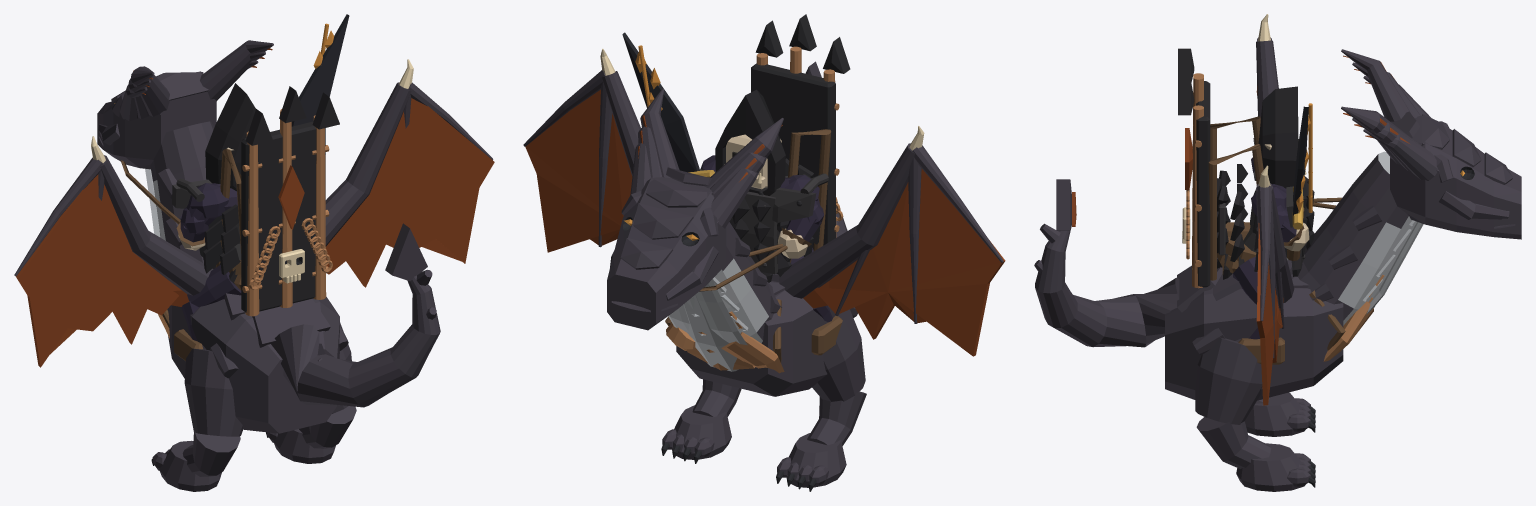
Rendered from host_50.glb.
3 views of the same model, side by side, from view 1: azimuth 30°, elevation 25°; view 2: azimuth 150°, elevation 25°; view 3: azimuth 270°, elevation 25° (orthographic).
Visible parts, largest first — view 1: V6 source mounted closed scalloped membrane R, V6 source mounted closed scalloped membrane L, V6 mount continuous anatomical thorax, V6 Bernhard long curled armored anatomical tail, V6 Bernhard actual strapped gothic throne timber back, V6 Bernhard source jaw shell, V6 source mounted wing shoulder elbow wrist bone L, V6 source mounted wing shoulder elbow wrist bone R, V6 mount anatomical thigh BL, V6 Bernhard continuous curved segmented neck, V6 source fitted domed cloth hood, V6 Bernhard source overlapped obsidian dorsal scale (+23 smaller); view 2: V6 source mounted closed scalloped membrane L, V6 source mounted closed scalloped membrane R, V6 Bernhard source jaw shell, V6 Bernhard actual strapped gothic throne timber back, V6 mount continuous anatomical thorax, V6 source mounted wing shoulder elbow wrist bone L, V6 Bernhard continuous curved segmented neck, V6 mount anatomical thigh BL, V6 source fitted domed cloth hood, V6 source curved forged sword blade, V6 mount anatomical shin BL, V6 Bernhard fitted continuous ivory throat (+28 smaller); view 3: V6 mount continuous anatomical thorax, V6 Bernhard continuous curved segmented neck, V6 Bernhard long curled armored anatomical tail, V6 Bernhard source jaw shell, V6 mount anatomical thigh BR, V6 source fitted domed cloth hood, V6 Bernhard actual strapped gothic throne timber back, V6 mount anatomical shin BR, V6 mount anatomical paw BR, V6 source mounted closed scalloped membrane R, V6 Bernhard actual contacting tower shoulder suspension stra (×2), V6 mount anatomical paw BL (+20 smaller).
Boxes of the visible parts, left/top/right/bottom form: V6 source mounted closed scalloped membrane R: left=326, top=98, right=494, bottom=287; V6 source mounted closed scalloped membrane L: left=15, top=174, right=189, bottom=367; V6 mount continuous anatomical thorax: left=167, top=297, right=339, bottom=433; V6 Bernhard long curled armored anatomical tail: left=271, top=275, right=440, bottom=407; V6 Bernhard actual strapped gothic throne timber back: left=241, top=121, right=325, bottom=312; V6 Bernhard source jaw shell: left=97, top=71, right=216, bottom=169; V6 source mounted wing shoulder elbow wrist bone L: left=100, top=155, right=213, bottom=295; V6 source mounted wing shoulder elbow wrist bone R: left=325, top=82, right=411, bottom=246; V6 mount anatomical thigh BL: left=184, top=348, right=243, bottom=436; V6 Bernhard continuous curved segmented neck: left=150, top=121, right=214, bottom=263; V6 source fitted domed cloth hood: left=205, top=83, right=255, bottom=191; V6 Bernhard source overlapped obsidian dorsal scale: left=252, top=298, right=330, bottom=347; V6 source mounted closed scalloped membrane L: left=803, top=169, right=1005, bottom=356; V6 source mounted closed scalloped membrane R: left=525, top=89, right=632, bottom=252; V6 Bernhard source jaw shell: left=607, top=177, right=726, bottom=330; V6 Bernhard actual strapped gothic throne timber back: left=751, top=63, right=835, bottom=249; V6 mount continuous anatomical thorax: left=676, top=290, right=839, bottom=396; V6 source mounted wing shoulder elbow wrist bone L: left=779, top=143, right=914, bottom=298; V6 Bernhard continuous curved segmented neck: left=683, top=222, right=775, bottom=371; V6 mount anatomical thigh BL: left=812, top=309, right=865, bottom=401; V6 source fitted domed cloth hood: left=715, top=89, right=785, bottom=195; V6 source curved forged sword blade: left=622, top=32, right=699, bottom=172; V6 mount anatomical shin BL: left=807, top=391, right=866, bottom=445; V6 Bernhard fitted continuous ivory throat: left=668, top=279, right=747, bottom=345; V6 mount continuous anatomical thorax: left=1165, top=288, right=1343, bottom=400; V6 Bernhard continuous curved segmented neck: left=1292, top=151, right=1416, bottom=325; V6 Bernhard long curled armored anatomical tail: left=1035, top=223, right=1179, bottom=347; V6 Bernhard source jaw shell: left=1390, top=114, right=1521, bottom=239; V6 mount anatomical thigh BR: left=1195, top=337, right=1262, bottom=424; V6 source fitted domed cloth hood: left=1258, top=86, right=1298, bottom=188; V6 Bernhard actual strapped gothic throne timber back: left=1196, top=81, right=1210, bottom=287; V6 mount anatomical shin BR: left=1196, top=417, right=1271, bottom=468; V6 mount anatomical paw BR: left=1236, top=443, right=1305, bottom=491; V6 source mounted closed scalloped membrane R: left=1256, top=223, right=1283, bottom=405; V6 Bernhard actual contacting tower shoulder suspension stra (×2): left=1208, top=116, right=1263, bottom=280; V6 mount anatomical paw BL: left=1245, top=392, right=1305, bottom=436.
Bounding box in the file's own units: 2.93 × 2.39 × 2.62.
